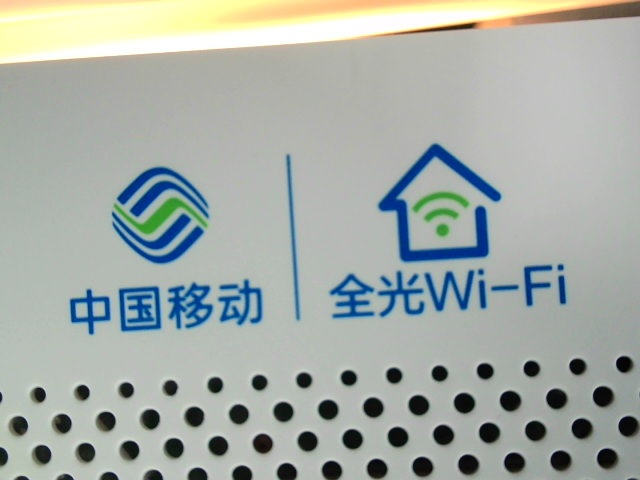BJ_QuanGuangMobile: (64, 136, 587, 340)
